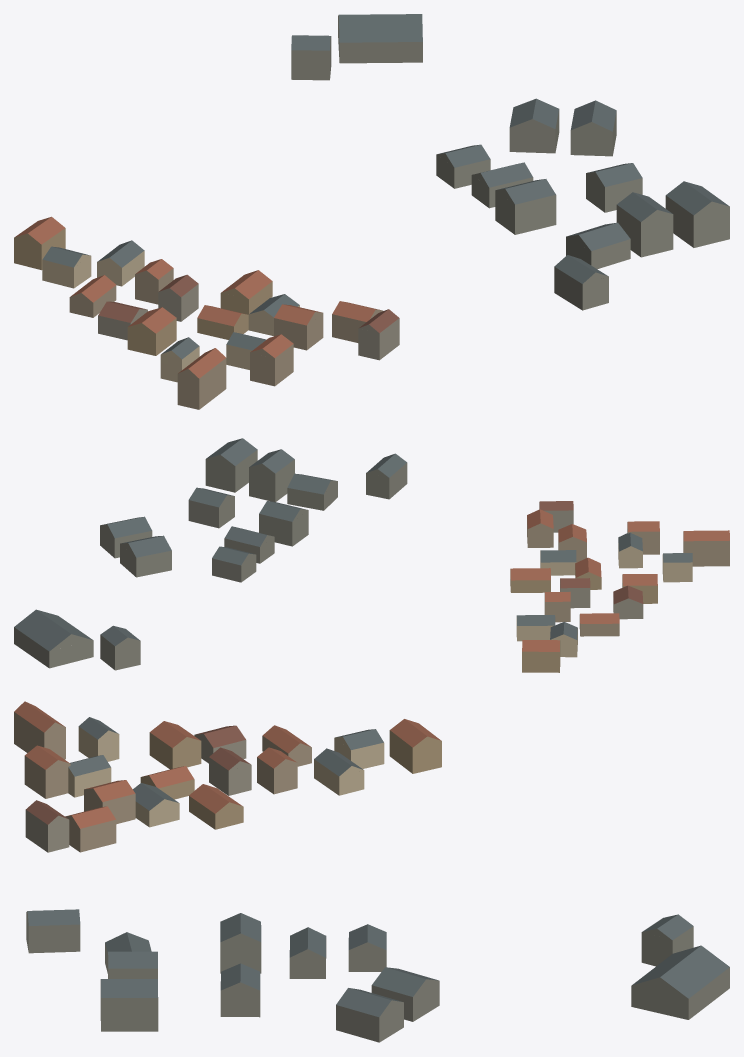
3 renders of one model, top to bottom at view 1: azimuth 30°, elevation 25°; view 2: azimuth 150°, elevation 25°; view 3: azimuth 270°, elevation 25°, orthographic. The views are drawn at different scales.
Parts seen in each view (by area): view 1: C_5_-1; view 2: C_5_-1; view 3: C_5_-1.
Boxes of the visible parts, left/top/right/bottom form: C_5_-1: left=14, top=14, right=729, bottom=409; C_5_-1: left=14, top=438, right=729, bottom=672; C_5_-1: left=14, top=701, right=729, bottom=1042.
Size of the model in its own units: 195 by 13.48 by 194.
